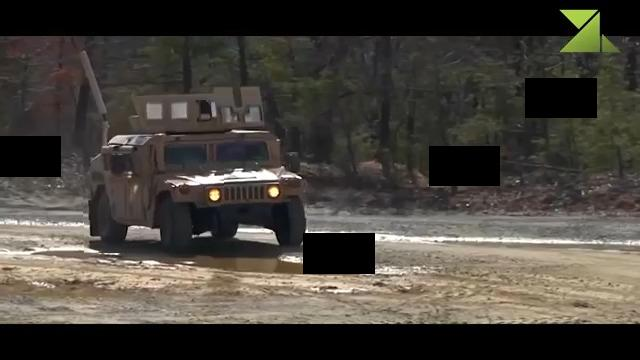MIL_HMMWV: (82, 128, 308, 252)
